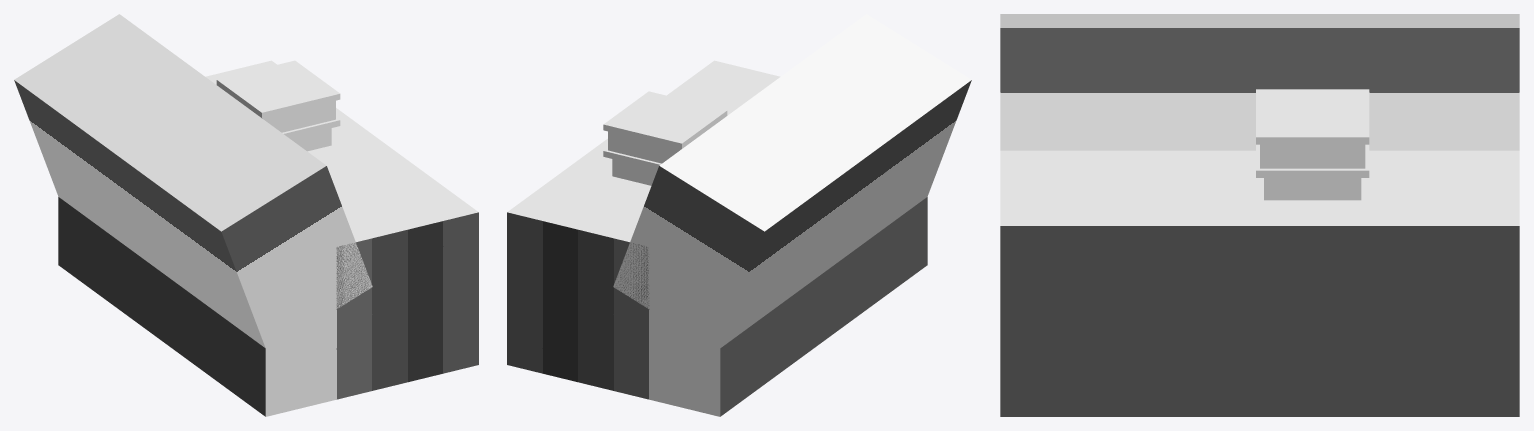
The model's file is gpp_i4.obj.
3 views of the same model, side by side, from view 1: azimuth 30°, elevation 25°; view 2: azimuth 150°, elevation 25°; view 3: azimuth 270°, elevation 25° (orthographic). The views are drawn at different scales.
Visible parts, largest first — view 1: engine, cube; view 2: engine, cube; view 3: engine, cube.
Boxes of the visible parts, <box> form: engine: <box>14,14,478,416</box>; cube: <box>216,60,340,151</box>; engine: <box>507,14,971,416</box>; cube: <box>603,91,727,185</box>; engine: <box>1000,14,1519,416</box>; cube: <box>1256,89,1369,200</box>.
Size of the model in its own units: 0.4627 by 0.4056 by 0.6449.
